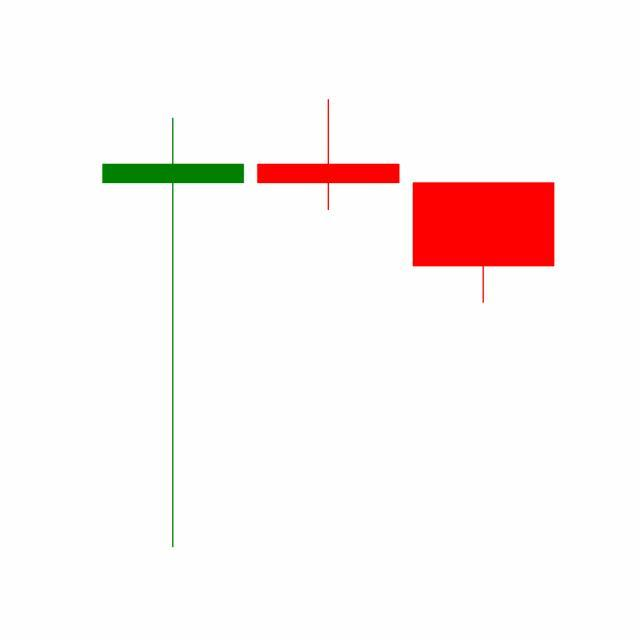Spinning Top: (250, 98, 407, 212)
